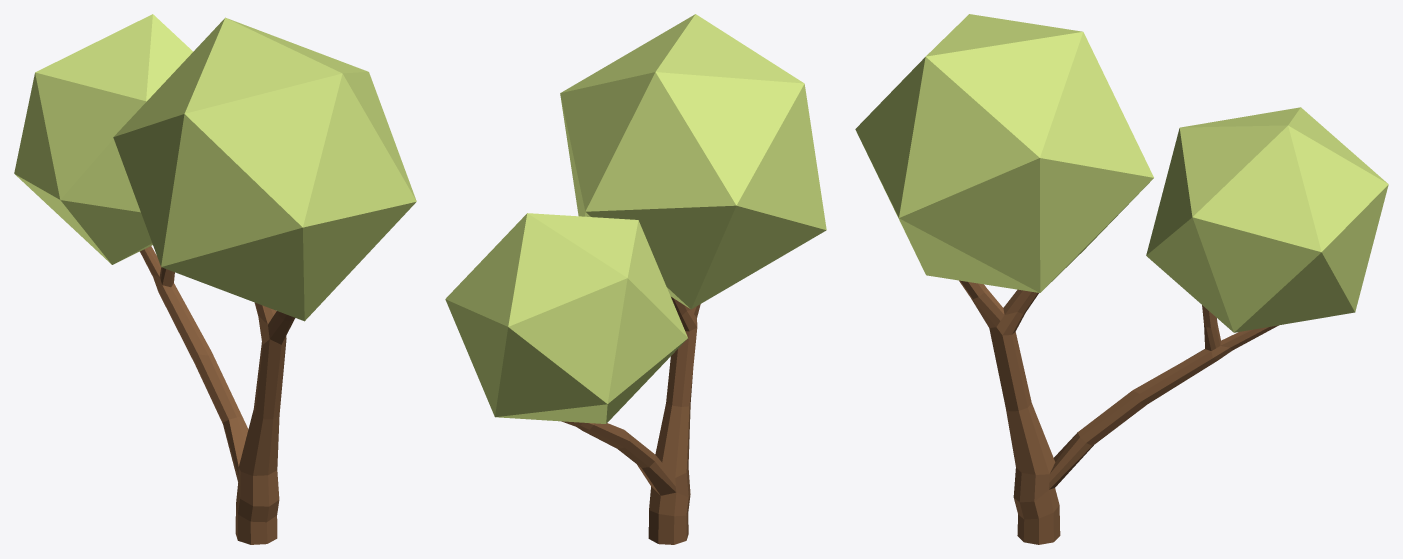
The model's file is Tree3.glb.
3 renders of one model, left to right at view 1: azimuth 30°, elevation 25°; view 2: azimuth 150°, elevation 25°; view 3: azimuth 270°, elevation 25°, orthographic. The views are drawn at different scales.
Visible parts, largest first — view 1: Tree3; view 2: Tree3; view 3: Tree3.
Part boxes in pixels (<box>): Tree3: <box>14,14,416,544</box>; Tree3: <box>445,14,826,544</box>; Tree3: <box>855,14,1388,544</box>.
Size of the model in its own units: 2.06 by 4.08 by 3.95.
